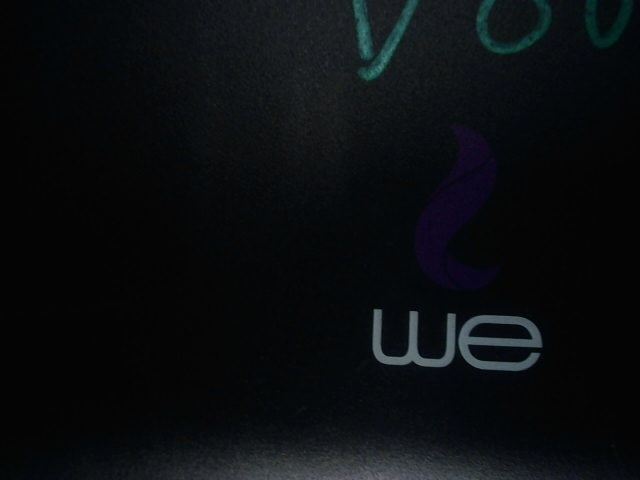AT_We: (366, 121, 555, 378)
